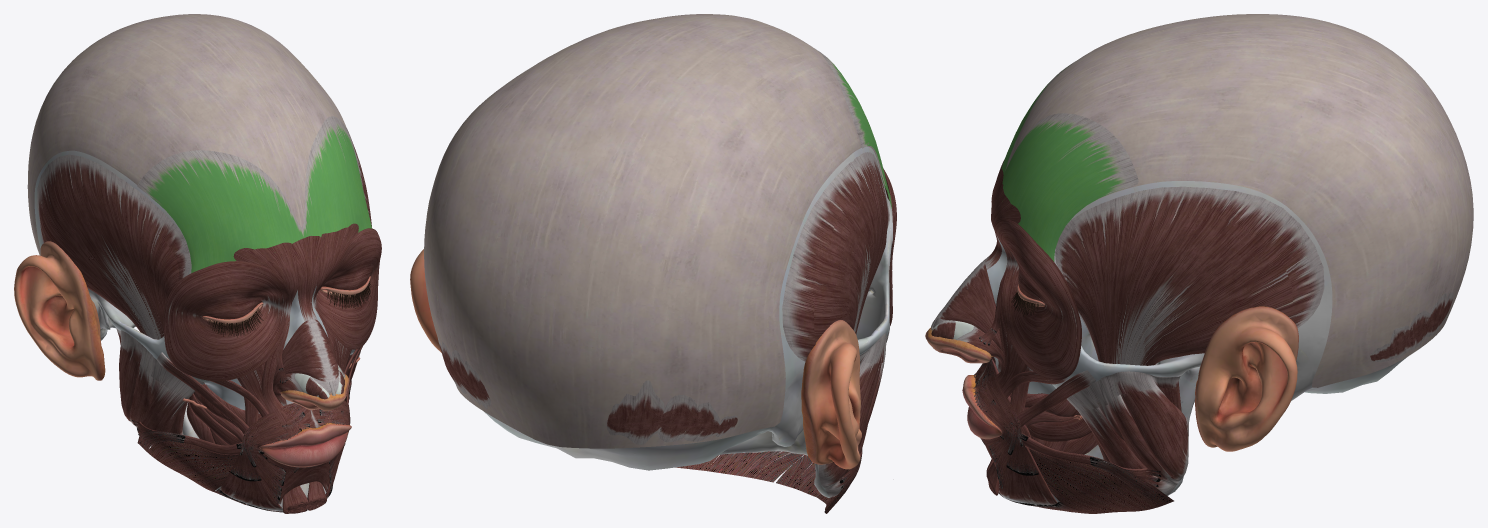
Rendered from 头部肌肉_20260324203044_opt.glb.
3 renders of one model, left to right at view 1: azimuth 30°, elevation 25°; view 2: azimuth 150°, elevation 25°; view 3: azimuth 270°, elevation 25°, orthographic. The views are drawn at different scales.
Parts seen in each view (by area): view 1: Temporalis_Left001+AlphaIndex=68, GaleaAponeurotica001+AlphaIndex=10, Plane002+AlphaIndex=70, EarLow, Plane+AlphaIndex=123, Skull, LipsNoseEyeSculpt_LowBaking_Check1001, Temporalis_Left+AlphaIndex=68, Plane110, Mandible; view 2: GaleaAponeurotica001+AlphaIndex=10, Temporalis_Left001+AlphaIndex=68, Skull, EarLow, Plane+AlphaIndex=123, Temporalis_Left+AlphaIndex=68, Plane002+AlphaIndex=70, Mandible; view 3: GaleaAponeurotica001+AlphaIndex=10, Temporalis_Left+AlphaIndex=68, Temporalis_Left001+AlphaIndex=68, EarLow, Plane002+AlphaIndex=70, Plane+AlphaIndex=123, Skull, LipsNoseEyeSculpt_LowBaking_Check1001, Mandible.
Part boxes in pixels (<box>): Temporalis_Left001+AlphaIndex=68: <box>37,154,381,513</box>; GaleaAponeurotica001+AlphaIndex=10: <box>27,14,346,255</box>; Plane002+AlphaIndex=70: <box>137,116,372,272</box>; EarLow: <box>14,241,105,380</box>; Plane+AlphaIndex=123: <box>131,359,351,512</box>; Skull: <box>34,150,355,413</box>; LipsNoseEyeSculpt_LowBaking_Check1001: <box>259,276,370,467</box>; Temporalis_Left+AlphaIndex=68: <box>119,129,371,433</box>; Plane110: <box>207,281,371,337</box>; Mandible: <box>119,338,326,511</box>; GaleaAponeurotica001+AlphaIndex=10: <box>424,14,885,448</box>; Temporalis_Left001+AlphaIndex=68: <box>437,152,896,496</box>; Skull: <box>484,146,892,470</box>; EarLow: <box>410,249,861,469</box>; Plane+AlphaIndex=123: <box>675,449,862,513</box>; Temporalis_Left+AlphaIndex=68: <box>832,361,883,479</box>; Plane002+AlphaIndex=70: <box>814,48,891,208</box>; Mandible: <box>719,429,831,497</box>; GaleaAponeurotica001+AlphaIndex=10: <box>1008,14,1473,387</box>; Temporalis_Left+AlphaIndex=68: <box>1055,186,1324,365</box>; Temporalis_Left001+AlphaIndex=68: <box>931,160,1453,506</box>; EarLow: <box>1195,306,1298,451</box>; Plane002+AlphaIndex=70: <box>1001,61,1138,261</box>; Plane+AlphaIndex=123: <box>973,328,1173,513</box>; Skull: <box>987,181,1408,400</box>; LipsNoseEyeSculpt_LowBaking_Check1001: <box>925,284,1045,439</box>; Mandible: <box>999,363,1199,505</box>.
Bounding box in the file's own units: 0.2049 × 0.2315 × 0.2475.
19 materials, 17 textured.
